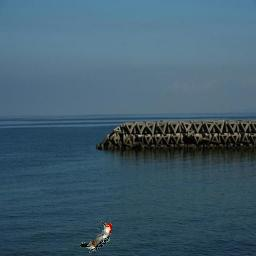Woodpecker: (78, 221, 112, 253)
